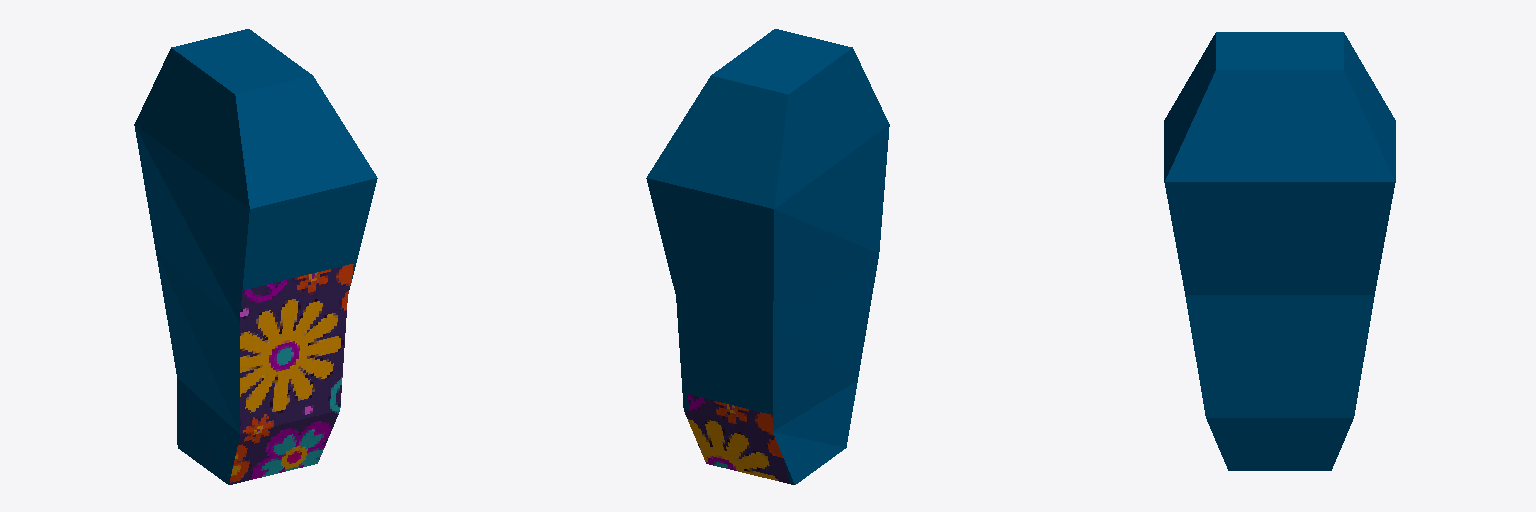
The picture shows the model from 3 angles: view 1: azimuth 30°, elevation 25°; view 2: azimuth 150°, elevation 25°; view 3: azimuth 270°, elevation 25°; orthographic projection.
Parts seen in each view (by area): view 1: body; view 2: body; view 3: body.
Part boxes in pixels (x1,y1,x2,y2): body: (134, 29, 377, 484); body: (646, 29, 889, 484); body: (1164, 32, 1395, 470).
Bounding box in the file's own units: 0.3594 × 1.06 × 0.5625.
Materials: 1 (1 with a texture image).